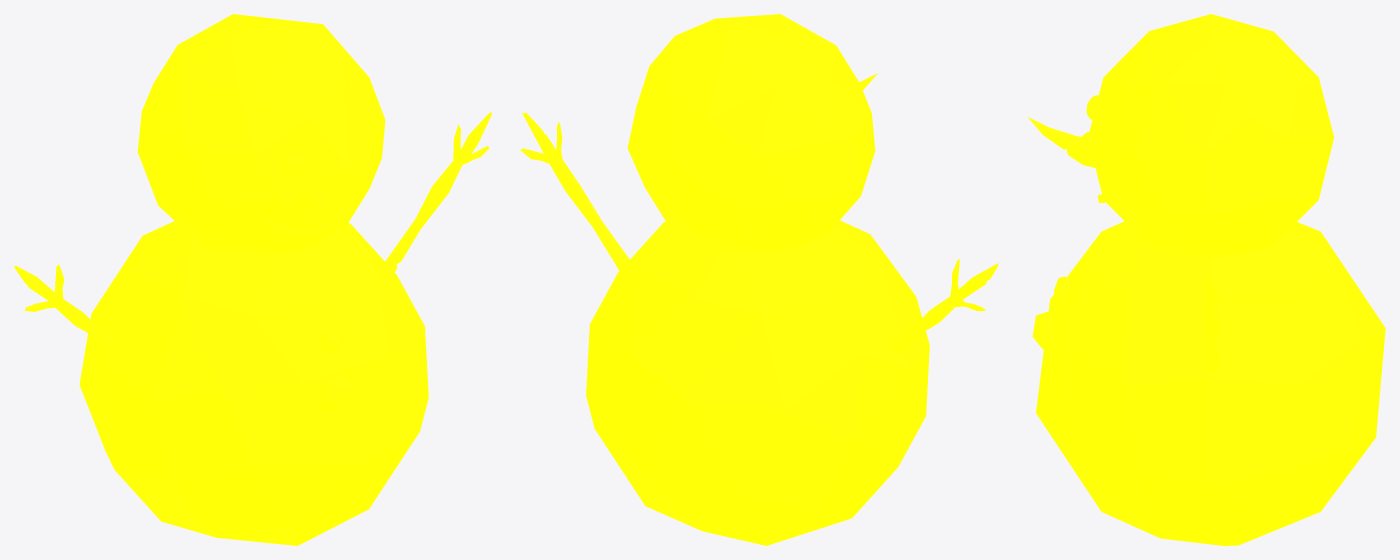
The model's file is RW_Snowman01.glb.
3 views of the same model, side by side, from view 1: azimuth 30°, elevation 25°; view 2: azimuth 150°, elevation 25°; view 3: azimuth 270°, elevation 25° (orthographic).
Visible parts, largest first — view 1: RW_LP_CP_Character_SnowMan_001; view 2: RW_LP_CP_Character_SnowMan_001; view 3: RW_LP_CP_Character_SnowMan_001.
Part boxes in pixels (box(x1,y1,x2,y2)): RW_LP_CP_Character_SnowMan_001: box(14, 14, 491, 545); RW_LP_CP_Character_SnowMan_001: box(520, 14, 998, 545); RW_LP_CP_Character_SnowMan_001: box(1028, 14, 1385, 545).
Bounding box in the file's own units: 1.2 × 1.21 × 0.7744.
Materials: 1 (1 with a texture image).
